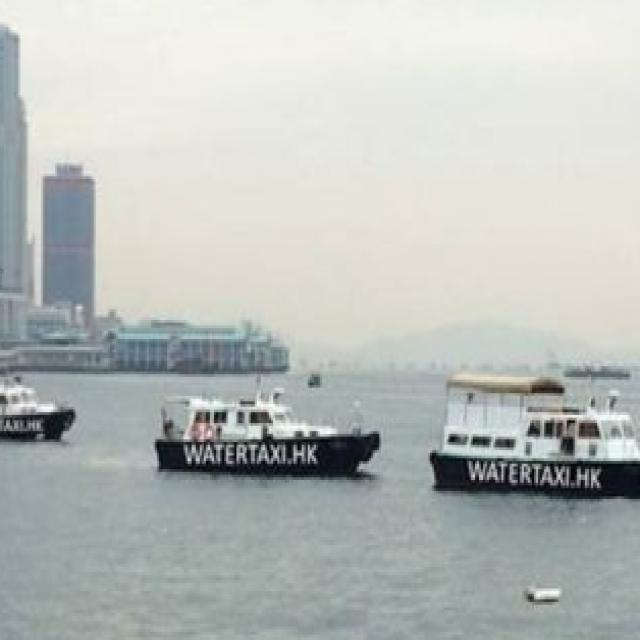houseboat: (424, 352, 640, 504), (150, 361, 389, 472)
